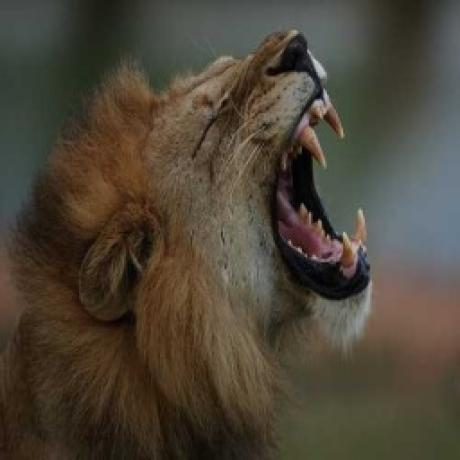Lion: (0, 27, 374, 460)
